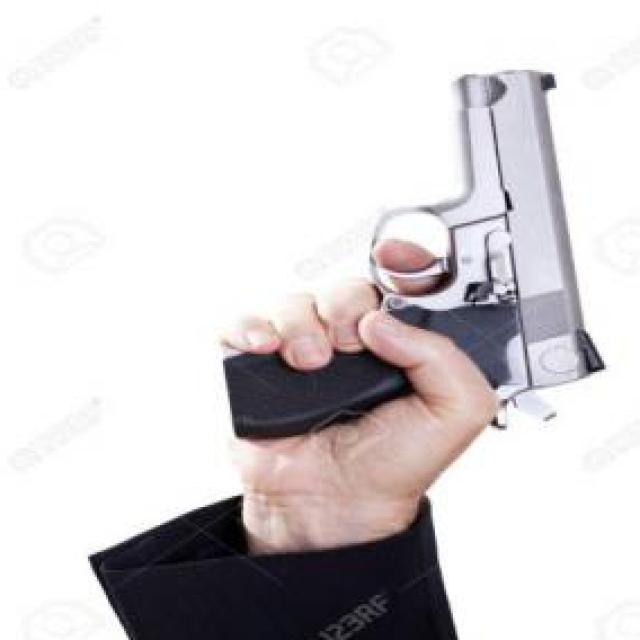pistol: (216, 65, 606, 444)
